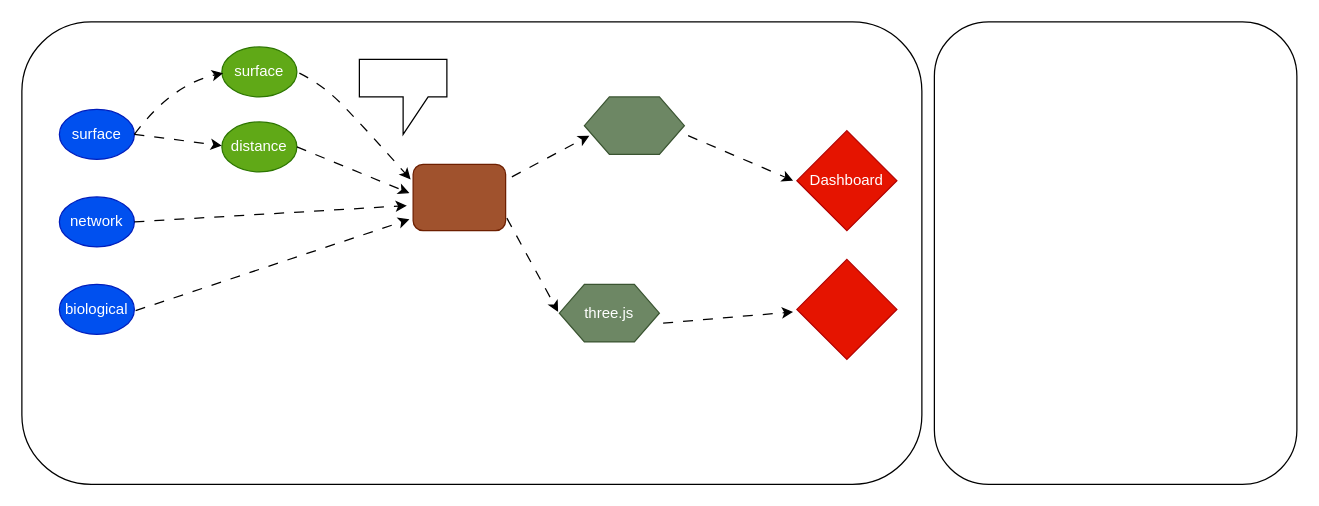
Image size: 1319x506. Some labels were removed from this diagram. Each missing label, with the centre of its shape:
dash: the point at 633,125
Data complier: the point at 459,197
parquet: the point at 402,96
webpage: the point at 846,308
